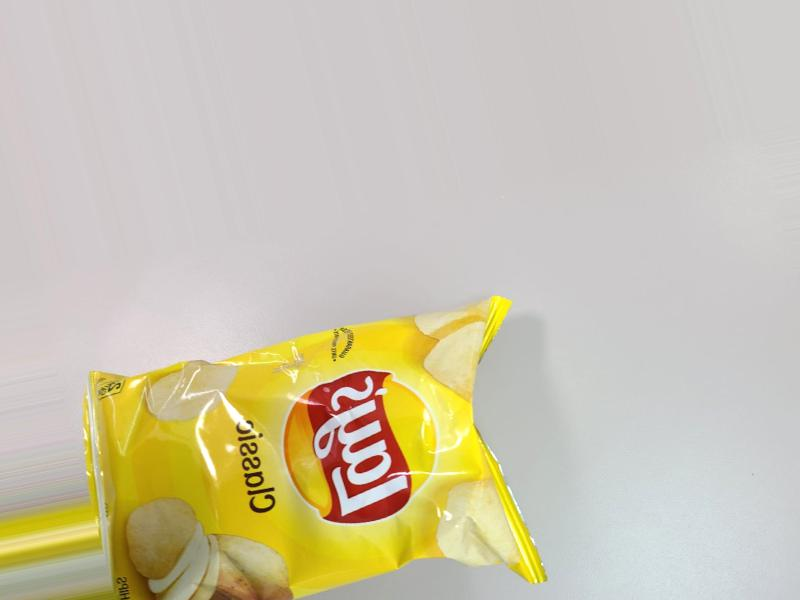lays: (72, 317, 503, 587)
